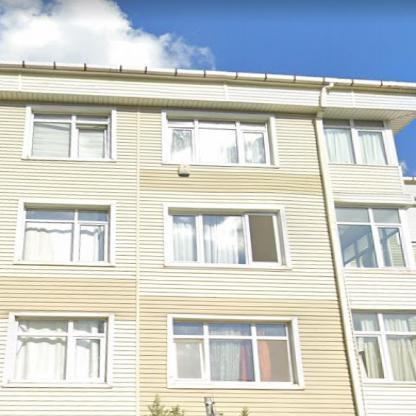window: (174, 320, 295, 382), (14, 317, 108, 380), (170, 213, 282, 264), (23, 207, 109, 262), (170, 118, 269, 163), (353, 312, 416, 381), (335, 208, 408, 267), (30, 113, 106, 158), (320, 118, 392, 165)
